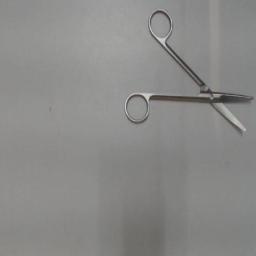Curved Mayo Scissors: (122, 5, 256, 137)
